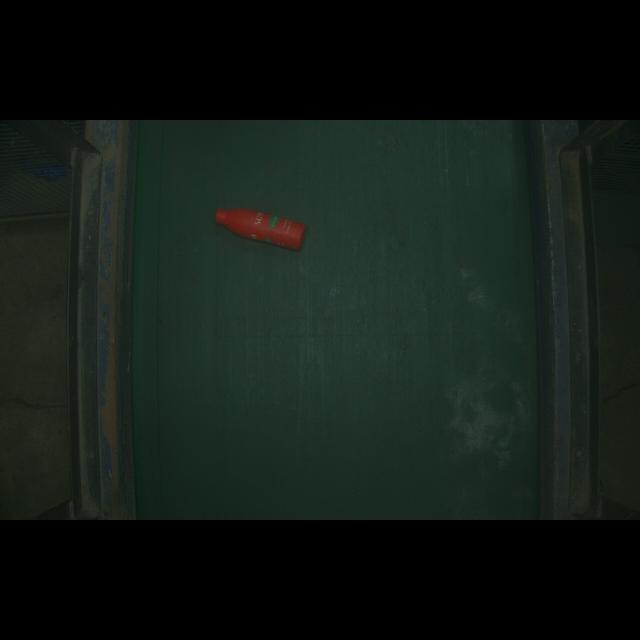mix rigid: (201, 195, 319, 259)
